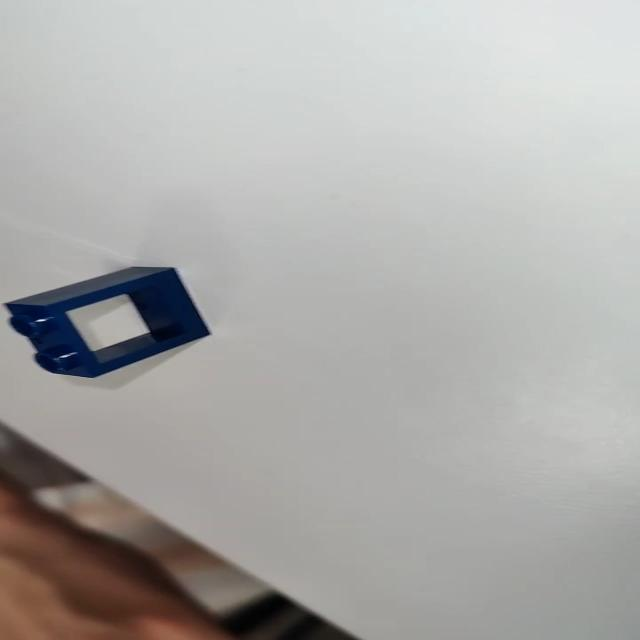W2x1x2: (0, 260, 222, 384)
